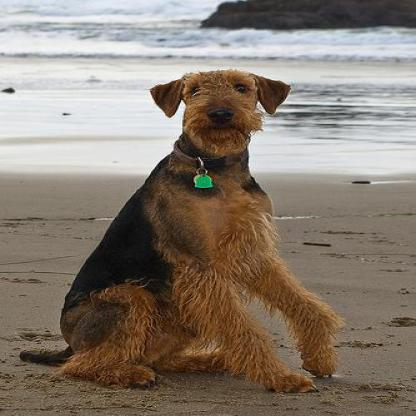dog: (40, 68, 343, 401)
